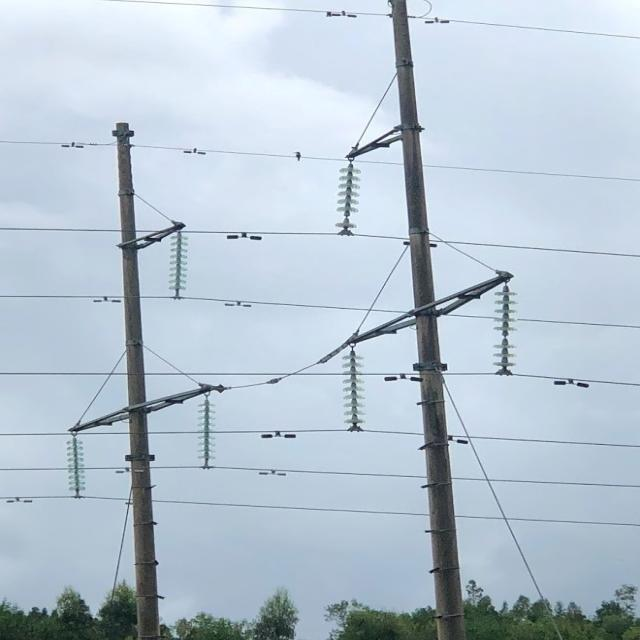杆塔: (337, 0, 513, 640), (55, 110, 220, 632)
正常绝缘子: (486, 281, 522, 375), (326, 155, 366, 232), (338, 346, 370, 431), (165, 224, 192, 304), (64, 423, 88, 506), (192, 390, 217, 468)
绝缘子破损: (500, 332, 510, 341), (343, 212, 351, 220)
